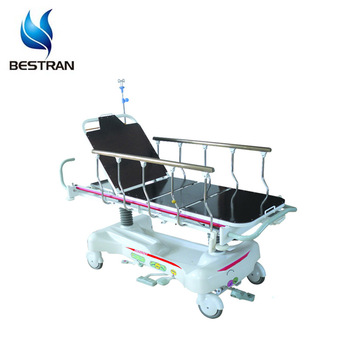trolley_bed: (56, 109, 302, 322)
